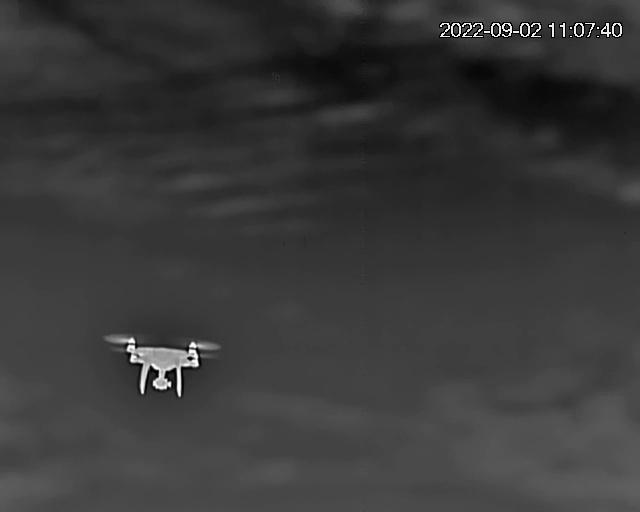DJI-Phantom: (100, 334, 217, 397)
